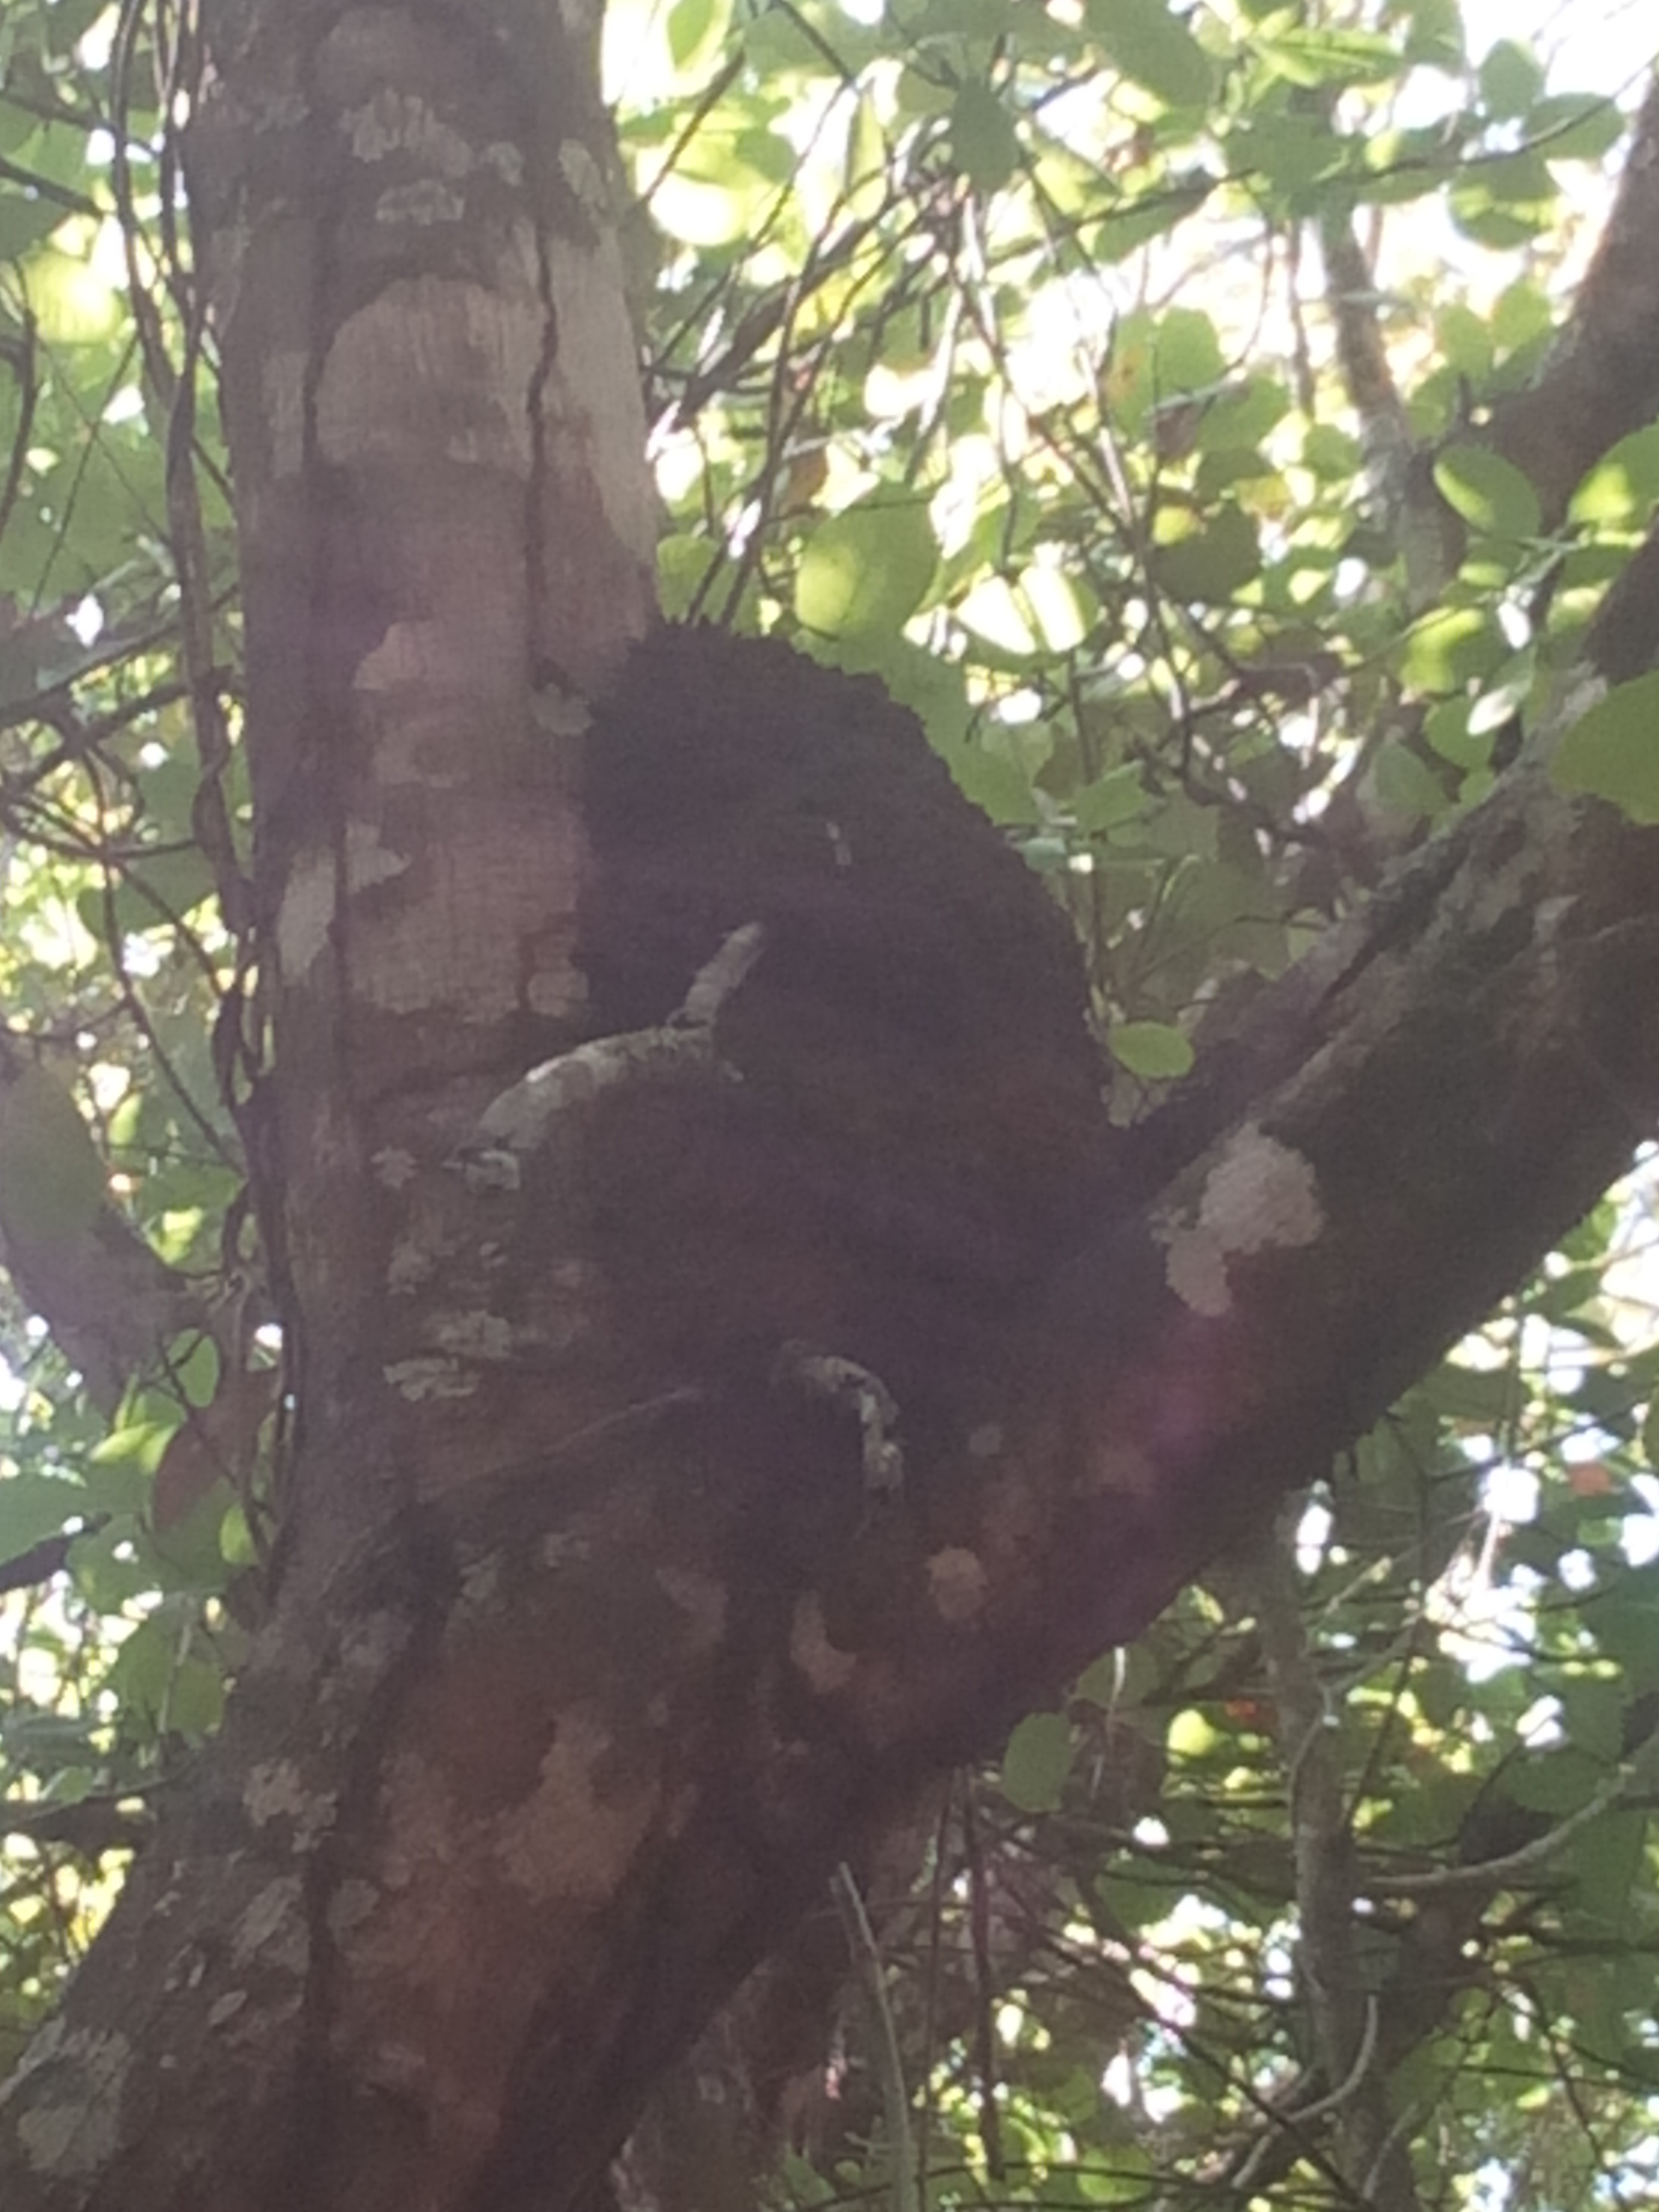Termites: (613, 625, 1114, 1320), (295, 207, 392, 1252), (274, 1611, 439, 2142)
